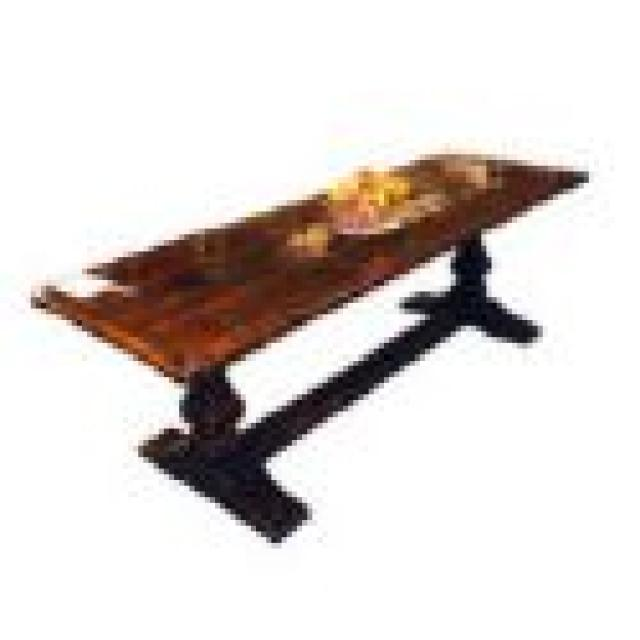table: (27, 144, 591, 546)
